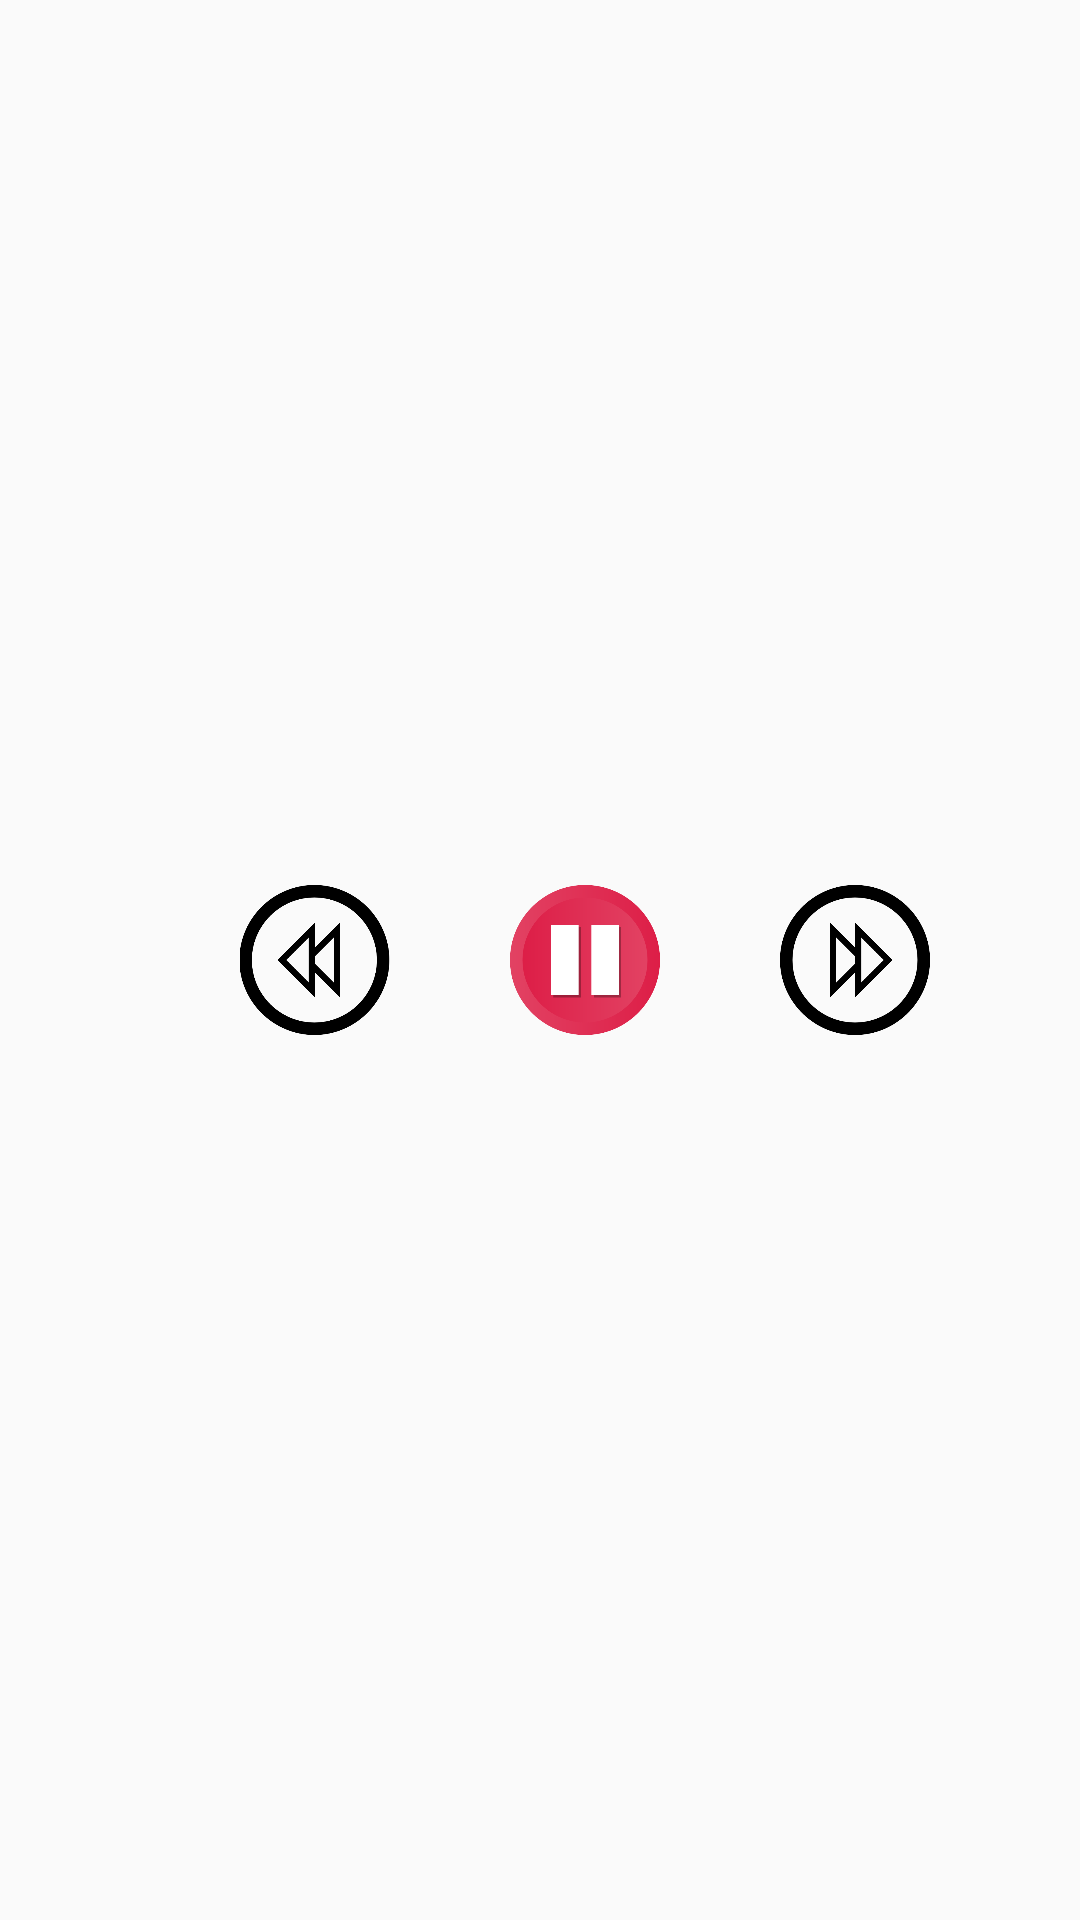

Named icons in this screenshot (1080×1920) and their bounding boxes, [x1=x1, y1=y1, x2=x2, y2=y2]:
next: [x1=780, y1=885, x2=930, y2=1035]
pause: [x1=510, y1=885, x2=660, y2=1035]
previous: [x1=240, y1=885, x2=390, y2=1035]
